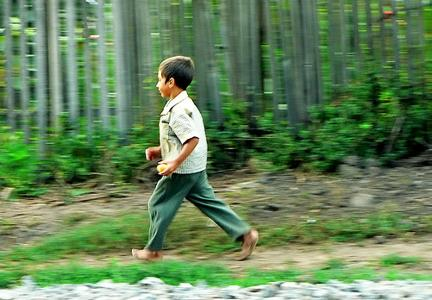person: (129, 56, 260, 265)
